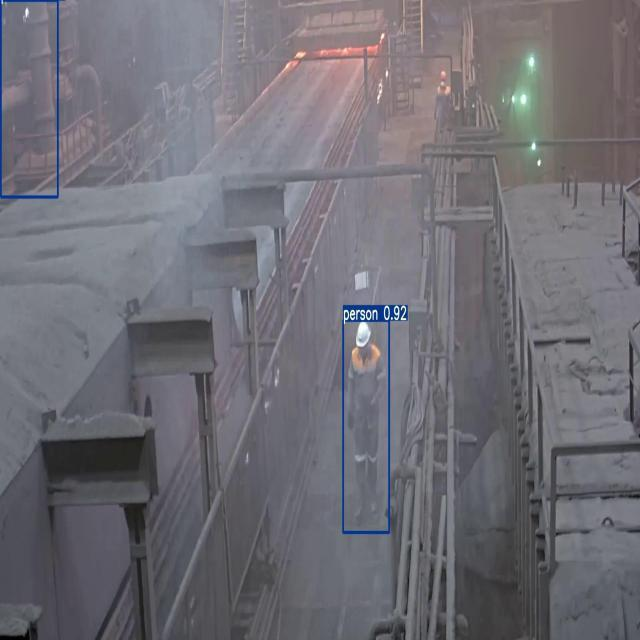safety_helmet: (343, 345, 389, 405)
